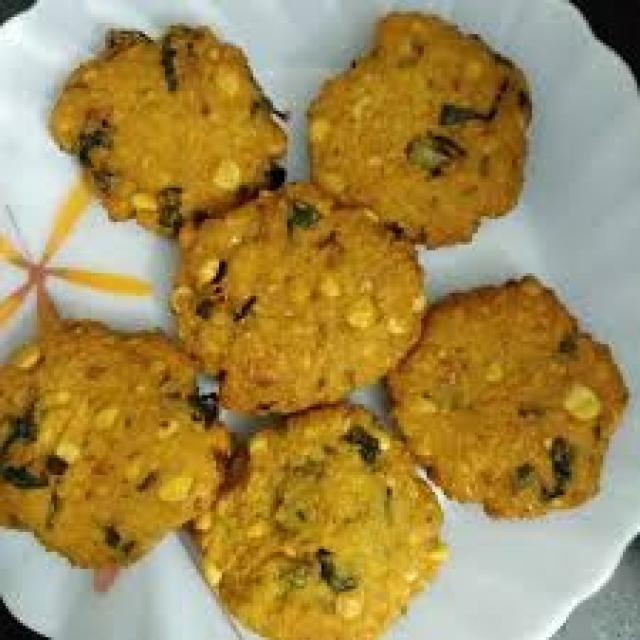parupu vadai: (4, 321, 224, 571), (178, 185, 418, 414), (397, 280, 624, 514), (203, 410, 438, 636), (307, 11, 529, 245), (310, 14, 526, 244), (50, 26, 279, 230)
